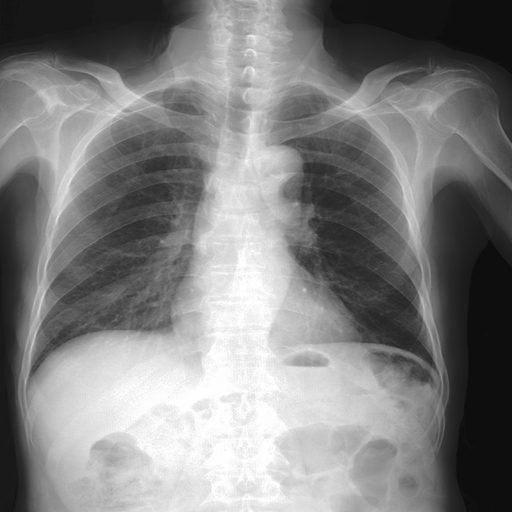Consolidation: (257, 146, 305, 193)
